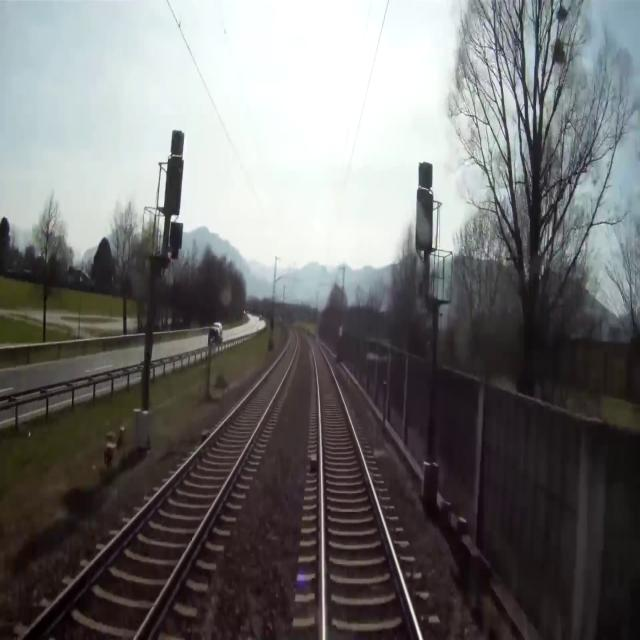rail-track: (23, 331, 295, 639), (309, 335, 418, 639)
